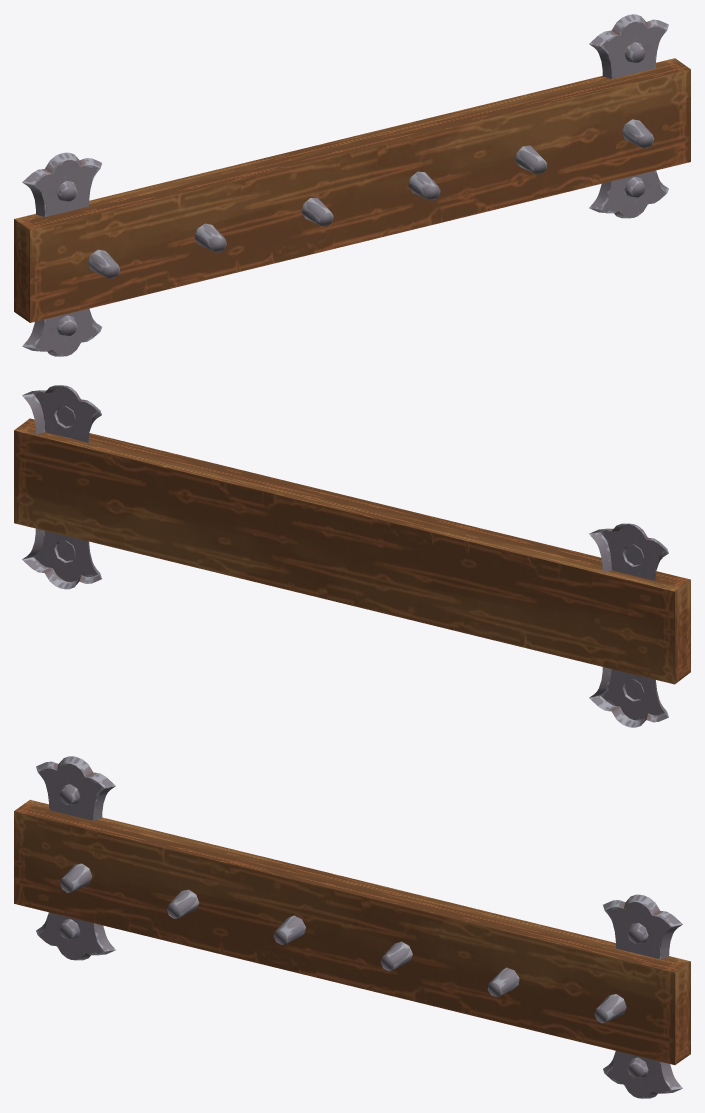
Rendered from Peg_Rack.gltf.
3 renders of one model, top to bottom at view 1: azimuth 30°, elevation 25°; view 2: azimuth 150°, elevation 25°; view 3: azimuth 330°, elevation 25°, orthographic.
Parts seen in each view (by area): view 1: Peg_Rack; view 2: Peg_Rack; view 3: Peg_Rack.
Boxes of the visible parts, x1,y1,x2,y2 form: Peg_Rack: (14, 14, 690, 356); Peg_Rack: (14, 385, 690, 727); Peg_Rack: (14, 756, 690, 1098).
Bounding box in the file's own units: 1.18 × 0.3479 × 0.0957.
Materials: 2 (2 with a texture image).
